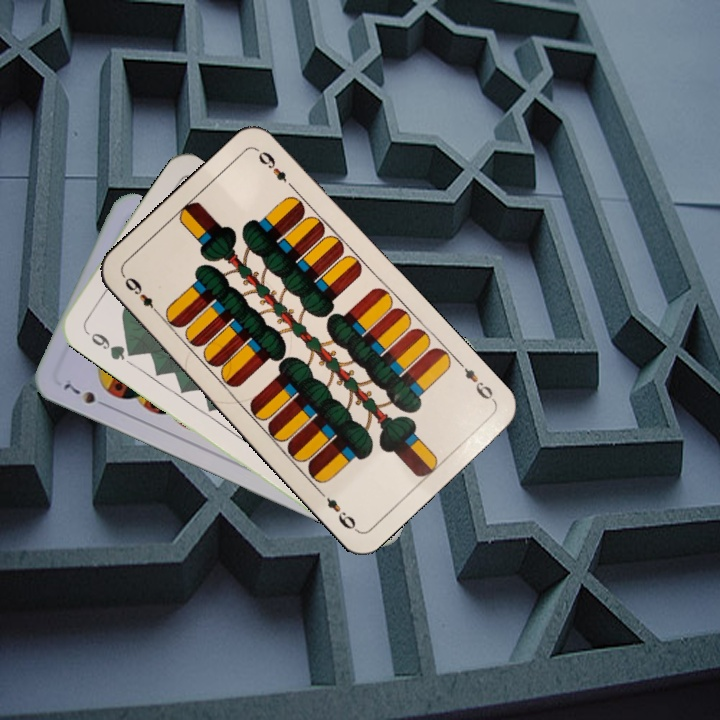E9: (119, 271, 164, 319), (453, 357, 498, 405)
G9: (80, 323, 134, 365)
S7: (60, 379, 112, 411)
